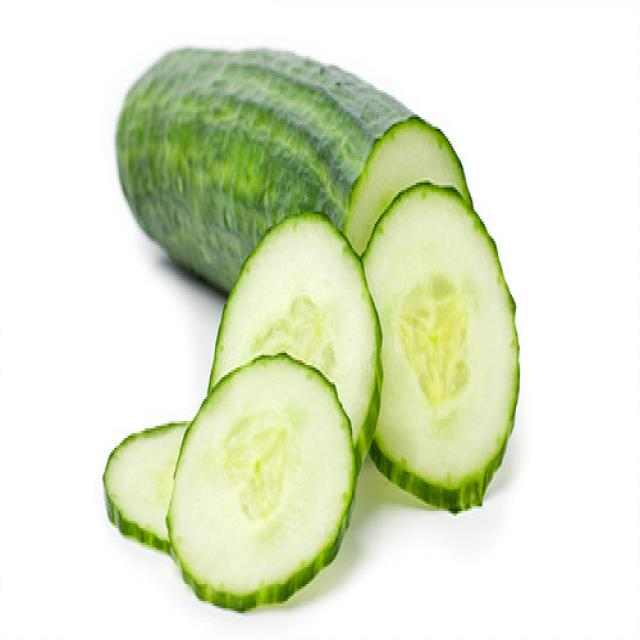cucumber: (87, 20, 550, 636), (192, 207, 381, 538), (360, 176, 533, 518), (167, 360, 360, 598)
